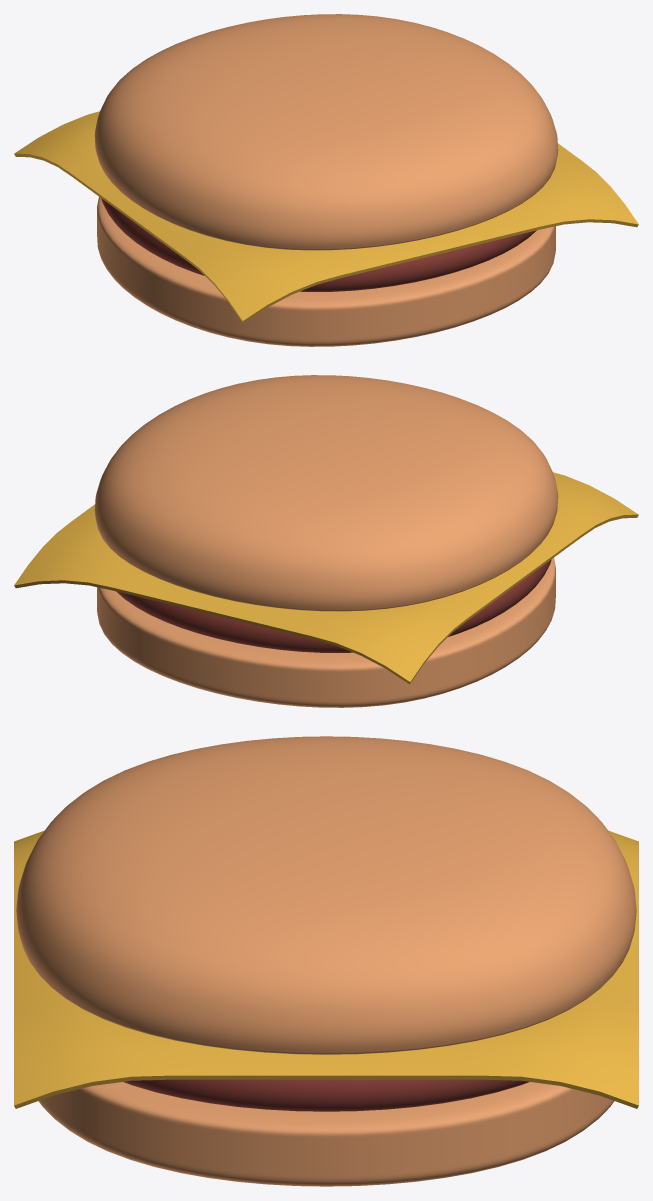
Rendered from hamburger.glb.
3 views of the same model, one above another, from view 1: azimuth 30°, elevation 25°; view 2: azimuth 150°, elevation 25°; view 3: azimuth 270°, elevation 25° (orthographic). The views are drawn at different scales.
Parts seen in each view (by area): view 1: Cube.001, Cube, Plane, Cube.002; view 2: Cube.001, Cube, Plane, Cube.002; view 3: Cube.001, Cube, Plane, Cube.002.
Part boxes in pixels (x1,y1,x2,y2): Cube.001: (94, 14, 558, 250); Cube: (97, 197, 555, 346); Plane: (14, 111, 638, 323); Cube.002: (101, 198, 536, 291); Cube.001: (94, 375, 558, 611); Cube: (97, 558, 555, 707); Plane: (14, 472, 638, 684); Cube.002: (116, 559, 551, 652); Cube.001: (16, 736, 636, 1054); Cube: (38, 1082, 614, 1186); Plane: (14, 830, 638, 1108); Cube.002: (123, 1079, 529, 1111).
Bounding box in the file's own units: 9.45 × 4.33 × 9.45.
